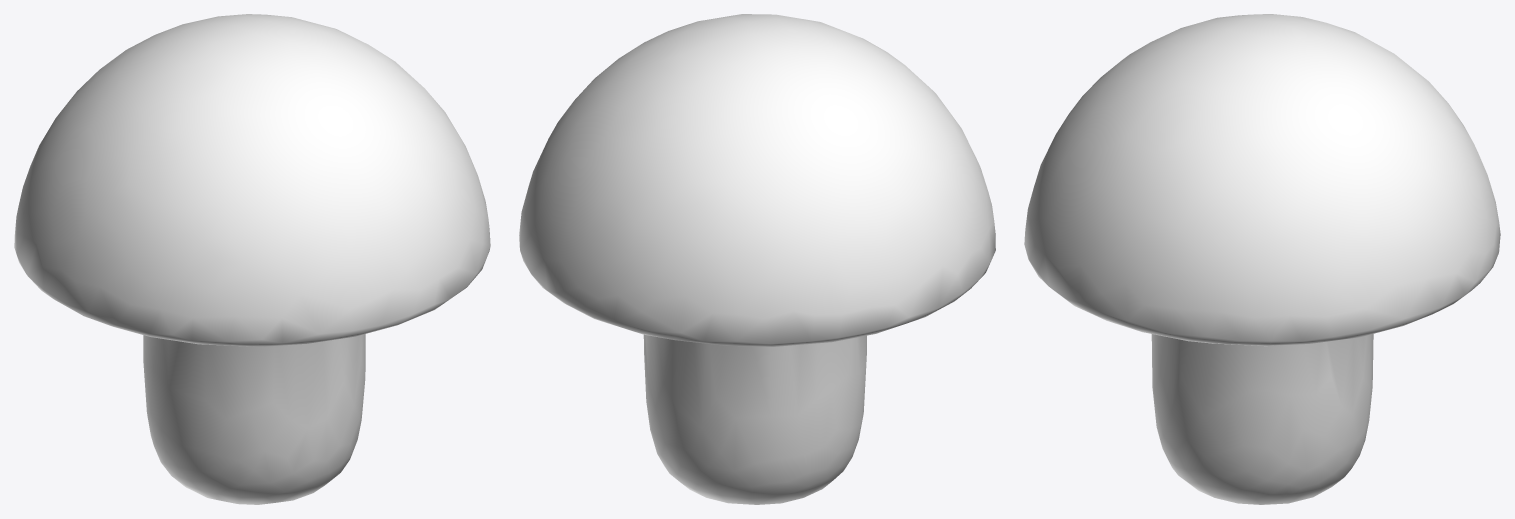
Rendered from pieczarka.gltf.
3 views of the same model, side by side, from view 1: azimuth 30°, elevation 25°; view 2: azimuth 150°, elevation 25°; view 3: azimuth 270°, elevation 25° (orthographic).
Visible parts, largest first — view 1: Sphere; view 2: Sphere; view 3: Sphere.
Boxes of the visible parts, <box> form: Sphere: <box>14,14,490,504</box>; Sphere: <box>519,14,995,504</box>; Sphere: <box>1024,14,1500,504</box>.
Size of the model in its own units: 1.97 by 2.01 by 1.97.
1 material, 1 textured.
